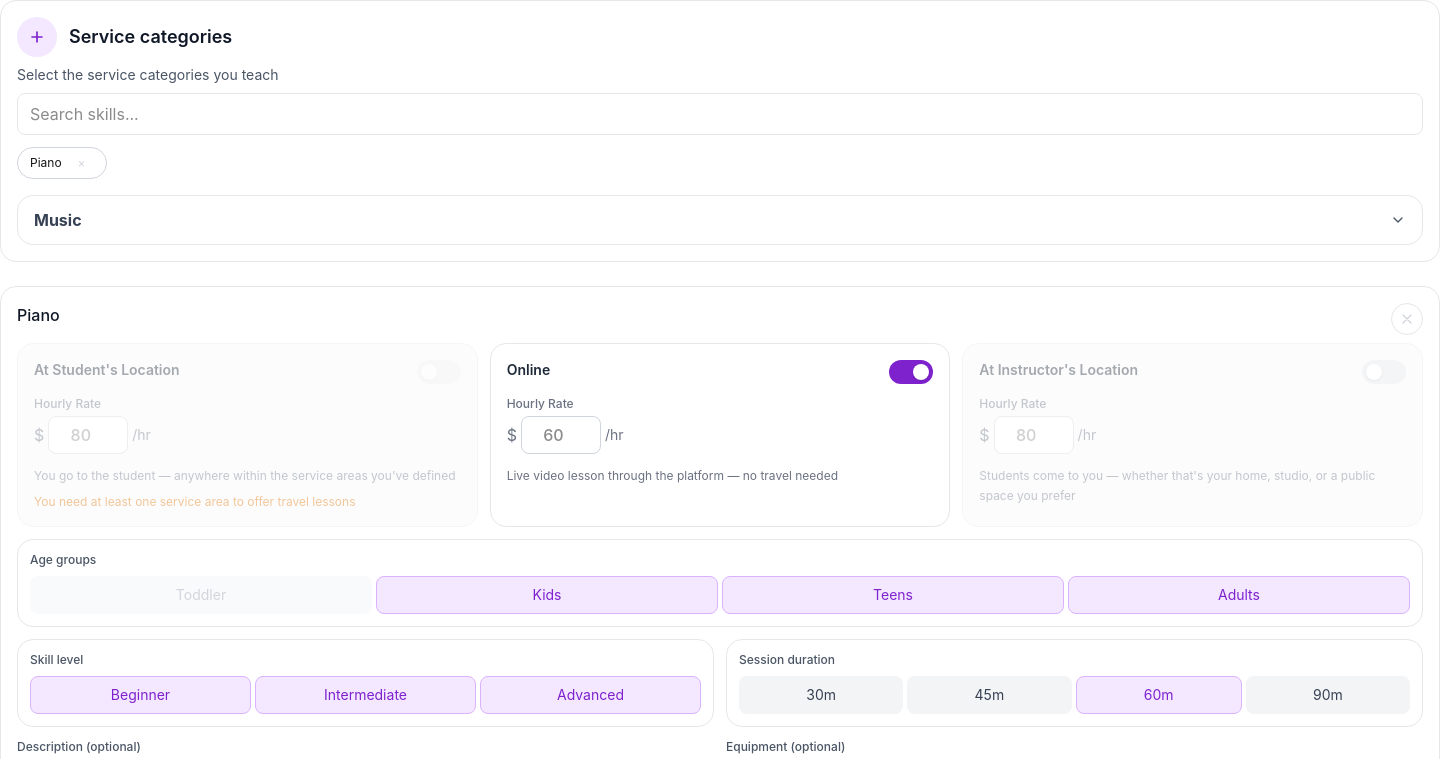
it: SkillsPricingInline › Coverage improvement tests › does not save when live instructor has no services with rates
Note: Try to trigger autosave with an empty rate still
Clear the number field with placeholder "60". click: (561, 435)
box: [521,416,601,454]
Wait 1200 ms
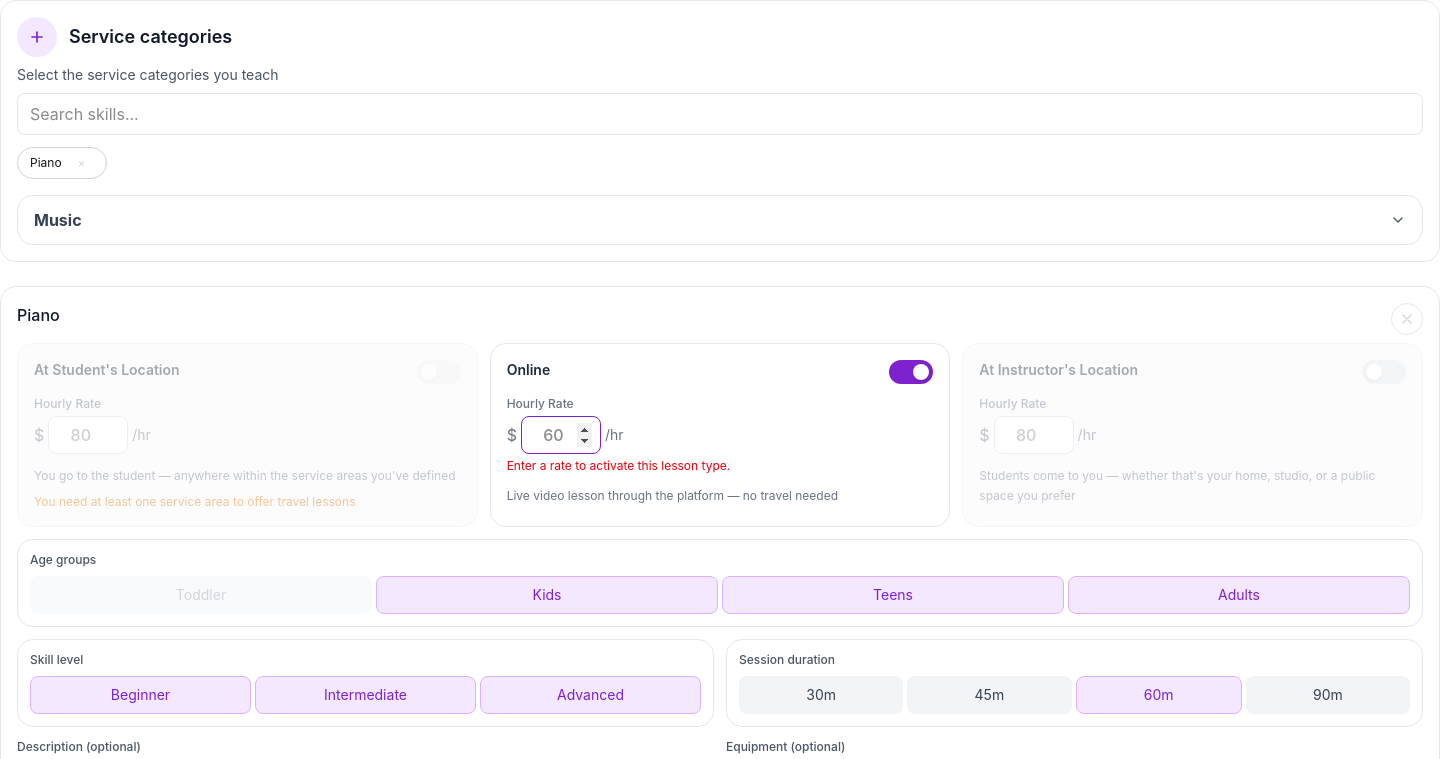
Result: the text "Enter a rate to activate this lesson type." is shown at [507,458,730,473]
